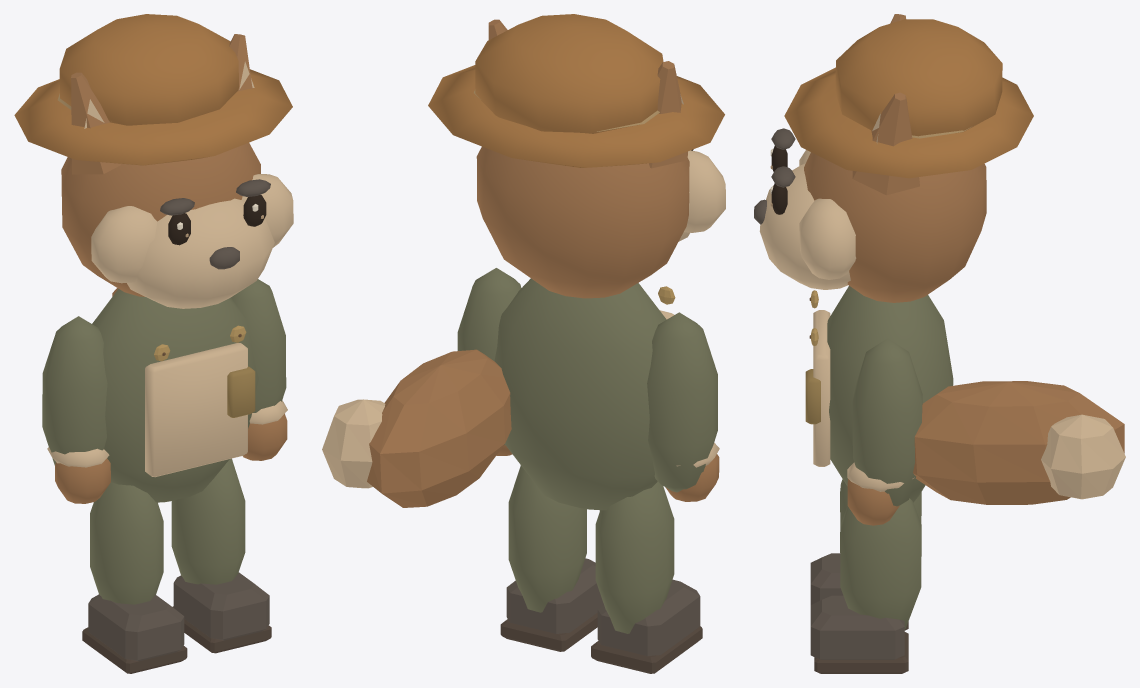
File: npc_ivo.glb
3 views of the same model, side by side, from view 1: azimuth 30°, elevation 25°; view 2: azimuth 150°, elevation 25°; view 3: azimuth 270°, elevation 25° (orthographic). The views are drawn at different scales.
Parts seen in each view (by area): view 1: npc_ivo, npc_ivo_leg_l, npc_ivo_leg_r, npc_ivo_arm_l, npc_ivo_arm_r, npc_ivo_r_eye, npc_ivo_l_eye; view 2: npc_ivo, npc_ivo_leg_l, npc_ivo_leg_r, npc_ivo_arm_l, npc_ivo_arm_r; view 3: npc_ivo, npc_ivo_leg_r, npc_ivo_arm_r, npc_ivo_leg_l.
Boxes of the visible parts, x1,y1,x2,y2 form: npc_ivo: (14,14,293,502); npc_ivo_leg_l: (82,482,187,673); npc_ivo_leg_r: (171,458,271,653); npc_ivo_arm_l: (42,316,110,503); npc_ivo_arm_r: (231,279,287,460); npc_ivo_r_eye: (243,195,266,226); npc_ivo_l_eye: (168,213,190,245); npc_ivo: (322,14,725,510); npc_ivo_leg_l: (591,481,702,673); npc_ivo_leg_r: (500,465,603,651); npc_ivo_arm_l: (647,312,719,501); npc_ivo_arm_r: (457,268,521,455); npc_ivo: (754,14,1125,504); npc_ivo_leg_r: (810,498,921,673); npc_ivo_arm_r: (847,338,922,525); npc_ivo_leg_l: (810,479,921,630).
Bounding box in the file's own units: 0.764 × 1.58 × 0.8817.
